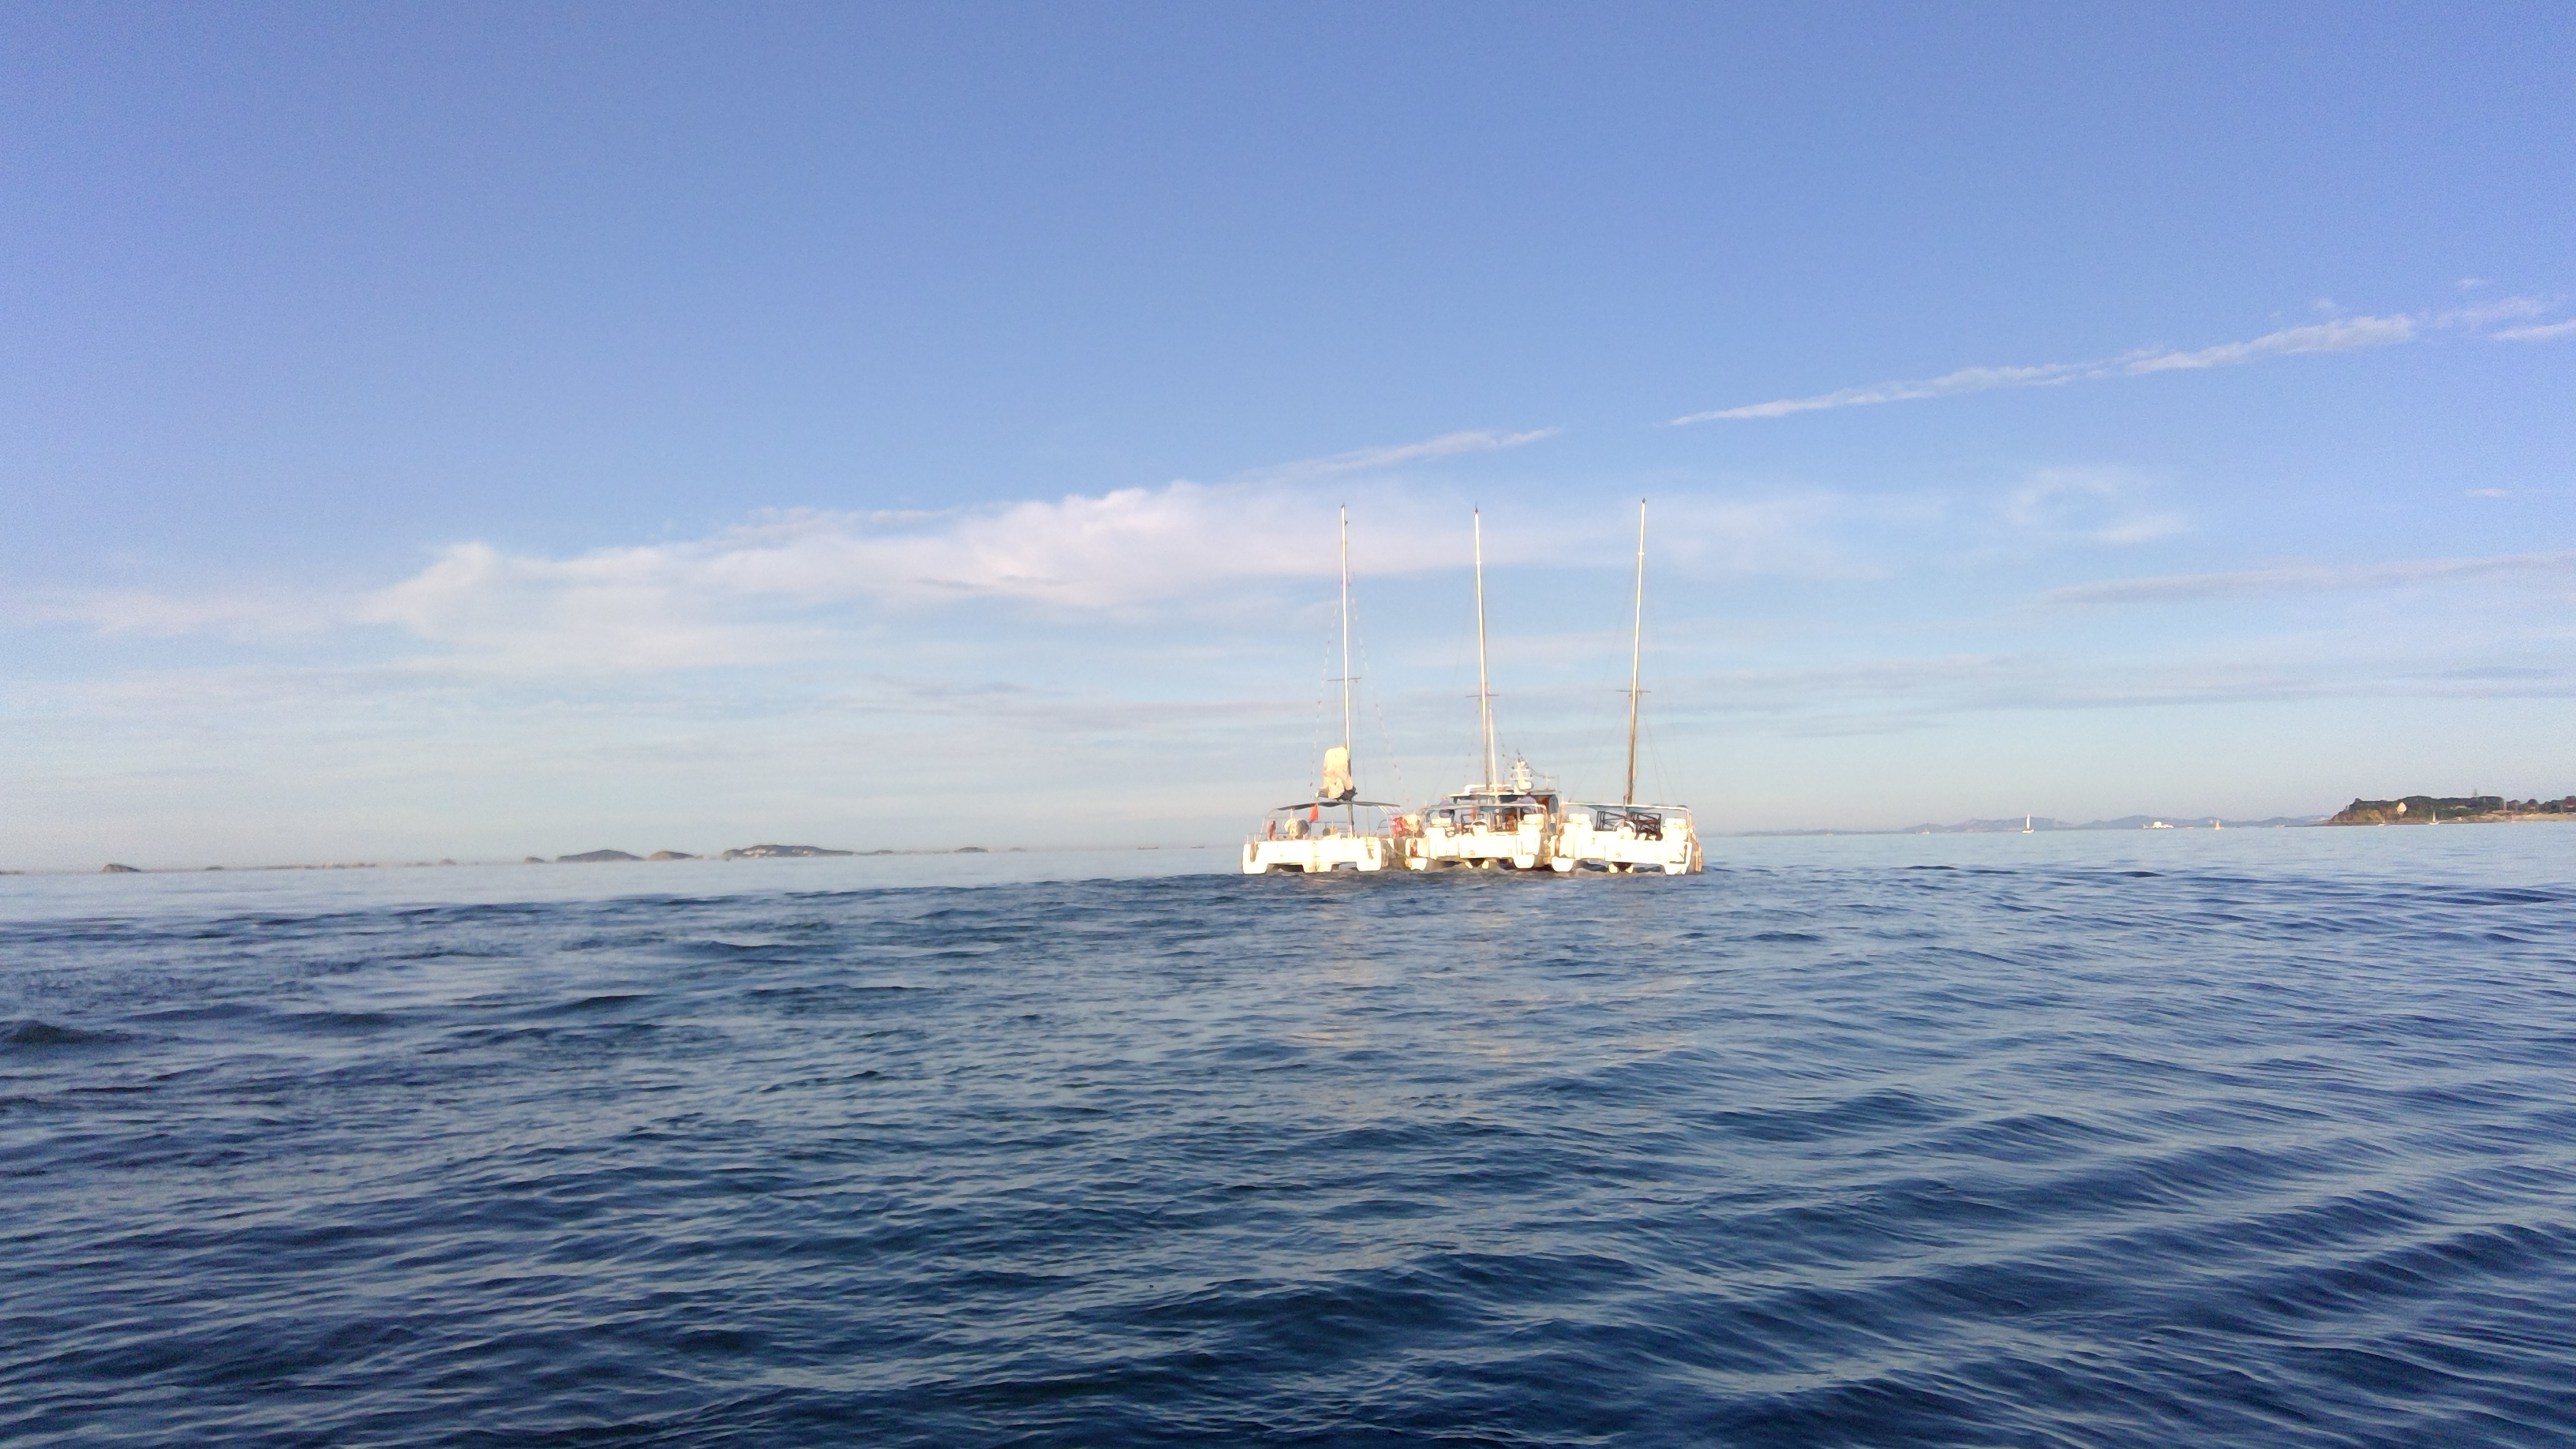boat: (1230, 478, 1414, 906), (1414, 442, 1559, 961), (1562, 402, 1709, 872)
rock: (2327, 777, 2574, 832)
